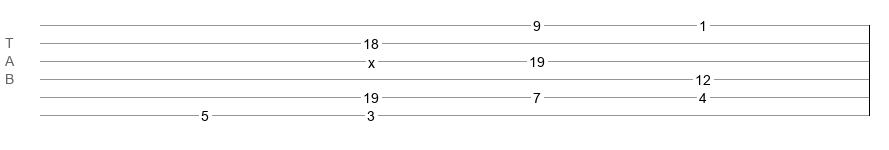1: (699, 18, 707, 28)
12: (695, 72, 711, 82)
18: (363, 36, 379, 46)
19: (363, 90, 379, 100), (529, 54, 545, 64)
3: (367, 108, 375, 118)
4: (699, 90, 707, 100)
5: (201, 108, 209, 118)
7: (533, 90, 541, 100)
9: (533, 18, 541, 28)
x: (368, 55, 375, 63)
